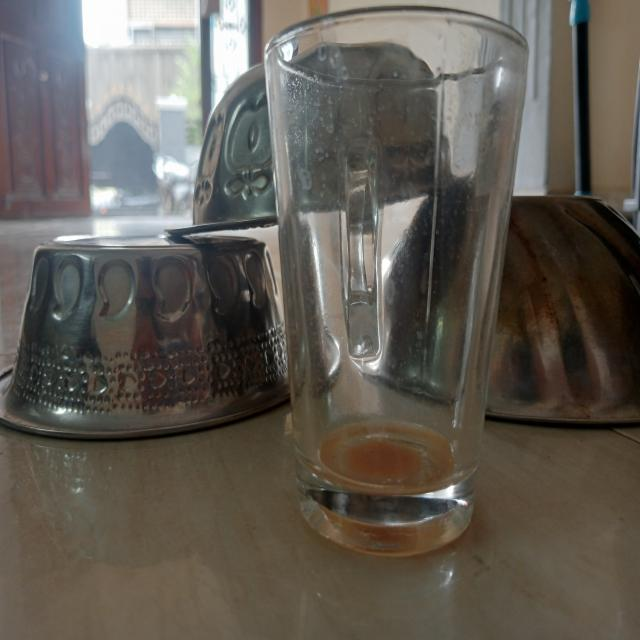glass-VX4N: (266, 7, 530, 557)
